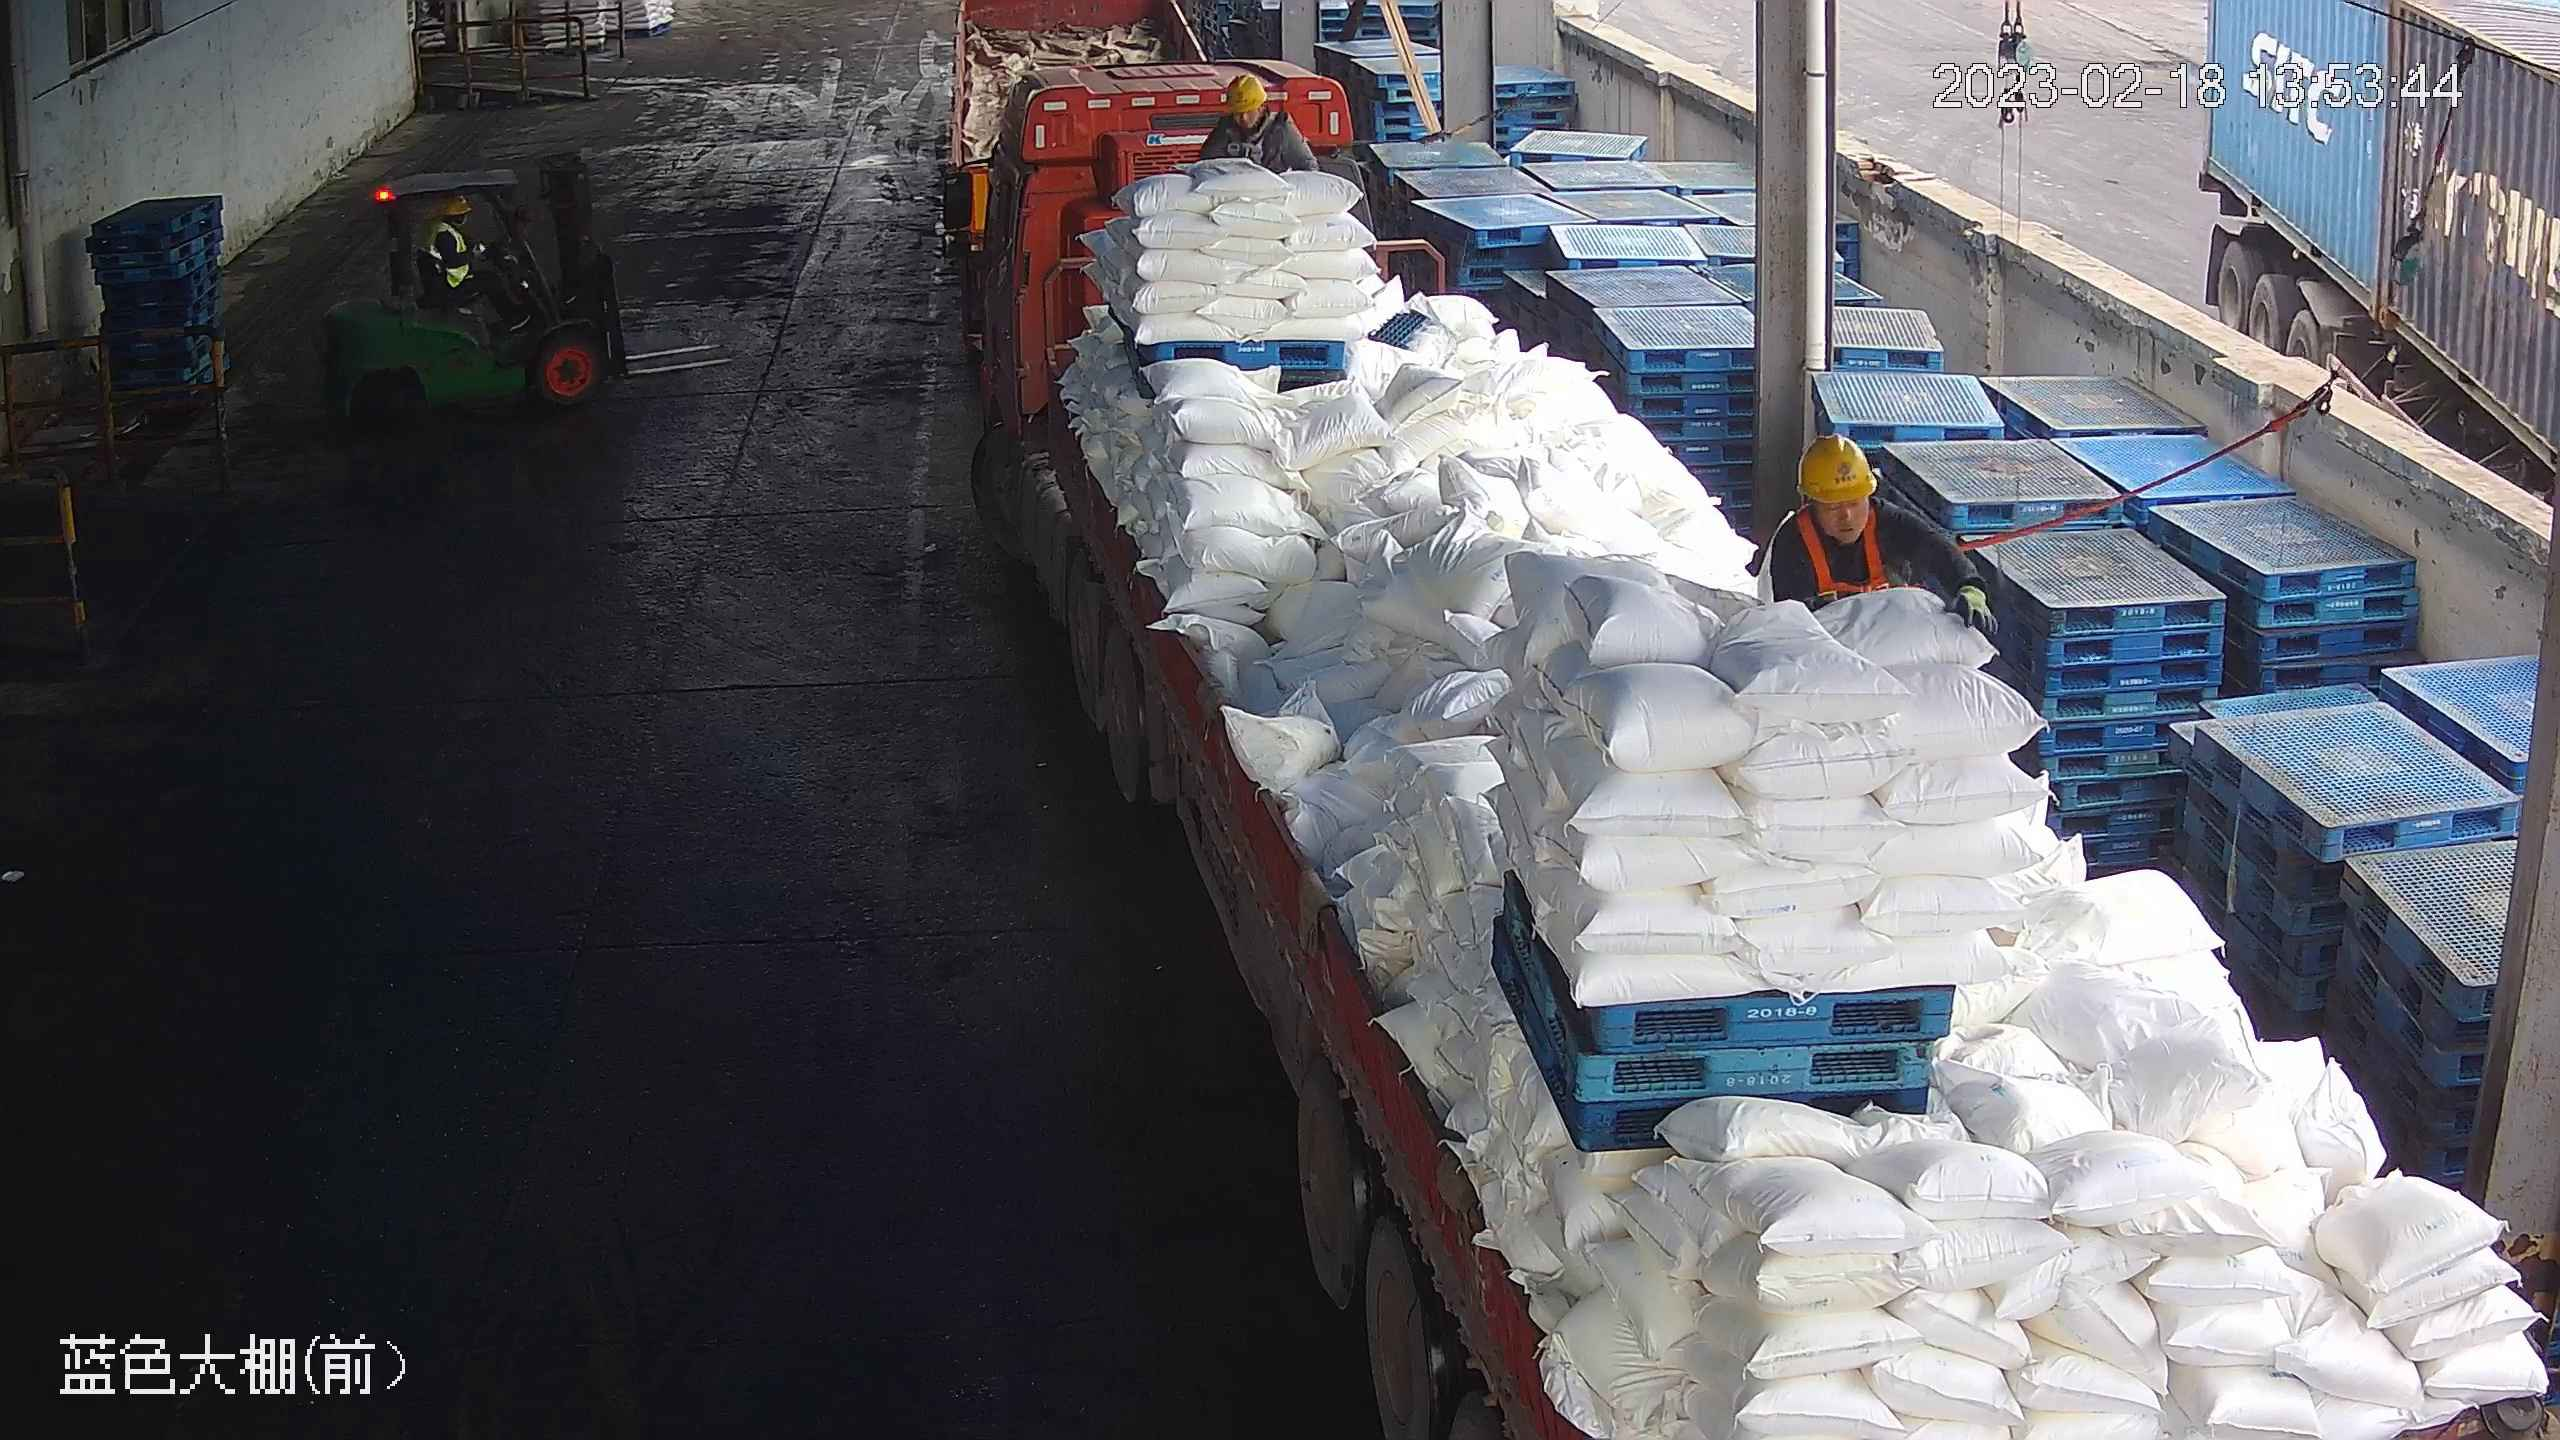belt: (1788, 500, 1896, 598), (1215, 110, 1291, 170)
head: (1768, 429, 1923, 553), (1207, 75, 1303, 147), (424, 190, 487, 248)
helmet: (1795, 431, 1879, 502), (1227, 74, 1267, 112), (435, 194, 472, 214)
people: (415, 191, 534, 333)
truck: (975, 57, 2560, 1440)
